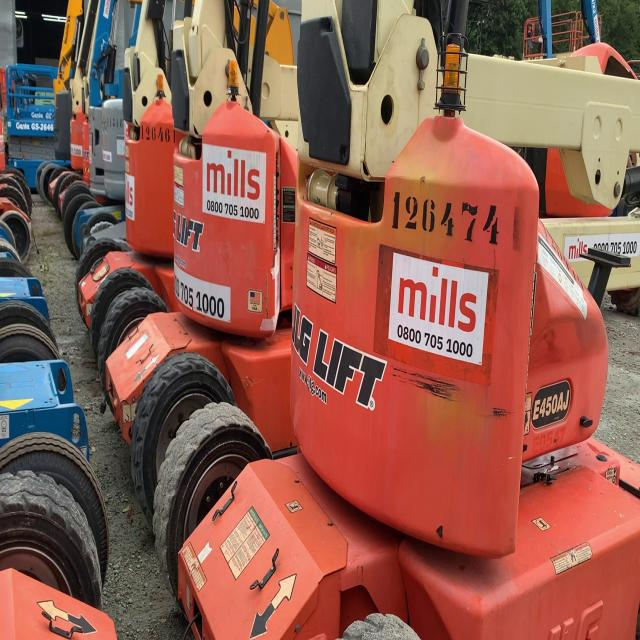Adesivos: (387, 250, 490, 367), (200, 143, 267, 226)
